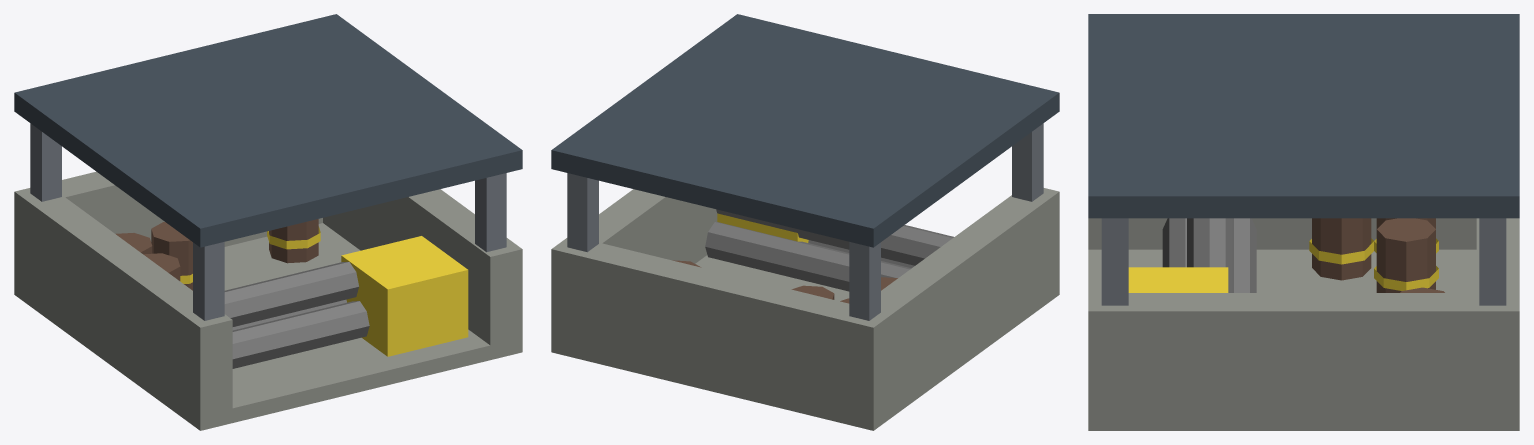
Rendered from mashup-yard-mid-prebuilt.fbx.
3 views of the same model, side by side, from view 1: azimuth 30°, elevation 25°; view 2: azimuth 150°, elevation 25°; view 3: azimuth 270°, elevation 25° (orthographic). The views are drawn at different scales.
Parts seen in each view (by area): view 1: a1056.MaterialYard; view 2: a1056.MaterialYard; view 3: a1056.MaterialYard.
Part boxes in pixels (x1,y1,x2,y2): a1056.MaterialYard: (14, 14, 522, 430); a1056.MaterialYard: (551, 14, 1059, 430); a1056.MaterialYard: (1088, 14, 1519, 430).
Bounding box in the file's own units: 8 × 4.8 × 8.
